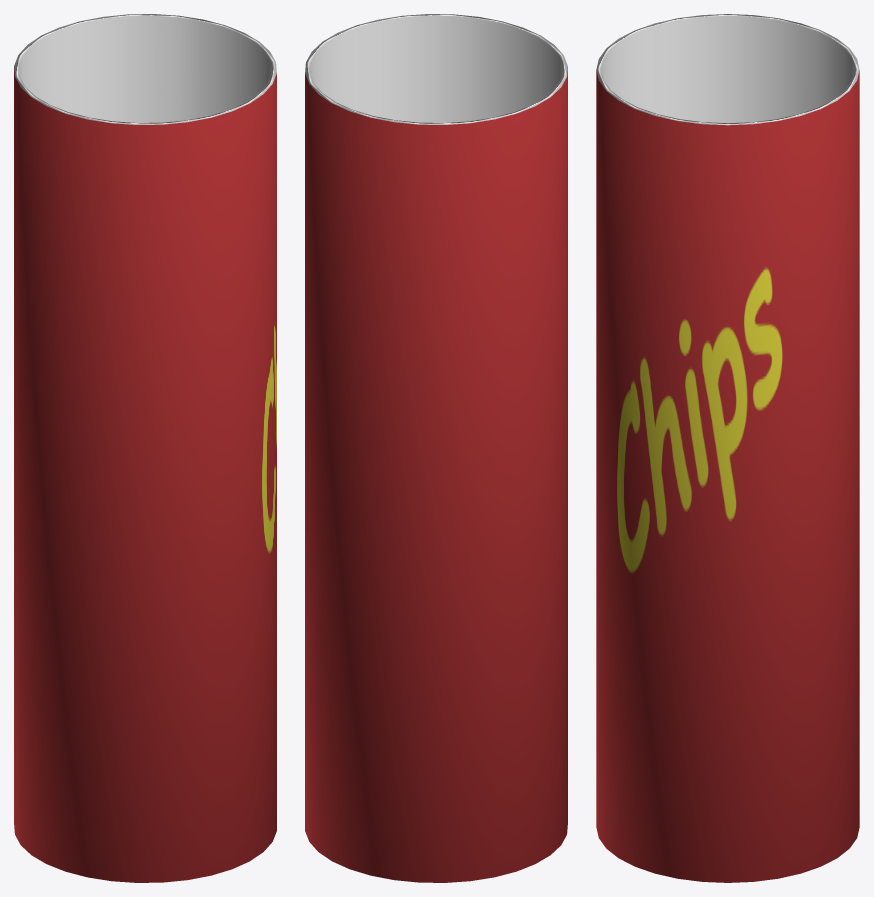
Rendered from potato_chips_can.glb.
The picture shows the model from 3 angles, left to right: view 1: azimuth 30°, elevation 25°; view 2: azimuth 150°, elevation 25°; view 3: azimuth 270°, elevation 25°; orthographic projection.
Parts seen in each view (by area): view 1: Cylinder; view 2: Cylinder; view 3: Cylinder.
Boxes of the visible parts, left/top/right/bottom form: Cylinder: left=14, top=14, right=276, bottom=882; Cylinder: left=305, top=14, right=567, bottom=882; Cylinder: left=596, top=14, right=859, bottom=882.
Bounding box in the file's own units: 0.08 × 0.254 × 0.08.
2 materials, 1 textured.
